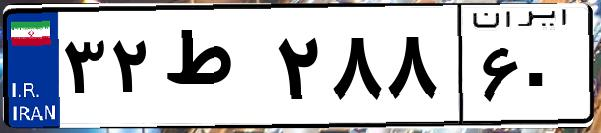0: (525, 38, 570, 115)
2: (270, 28, 330, 110), (110, 28, 158, 98)
3: (57, 26, 110, 100)
6: (475, 38, 525, 113)
8: (385, 28, 445, 110), (330, 28, 385, 110)
ط: (158, 20, 270, 120)
